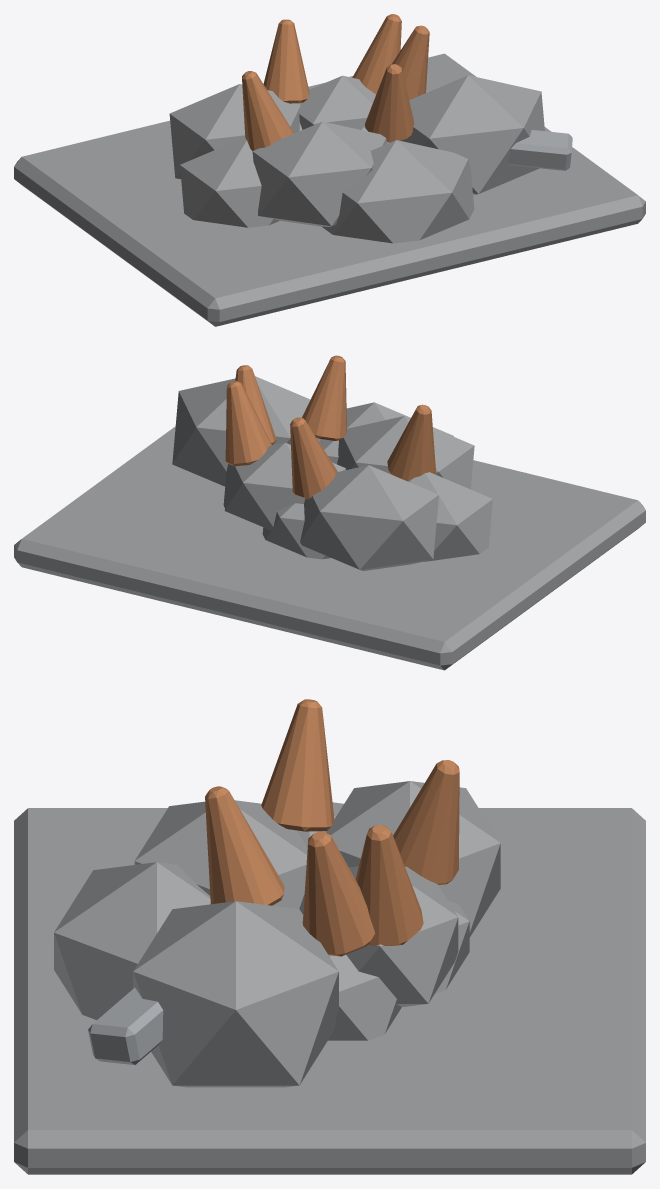
Rendered from harthmere_north_iron_vein.glb.
3 renders of one model, top to bottom at view 1: azimuth 30°, elevation 25°; view 2: azimuth 150°, elevation 25°; view 3: azimuth 270°, elevation 25°, orthographic. The views are drawn at different scales.
Bounding box in the file's own units: 2.25 × 0.8806 × 1.8.
